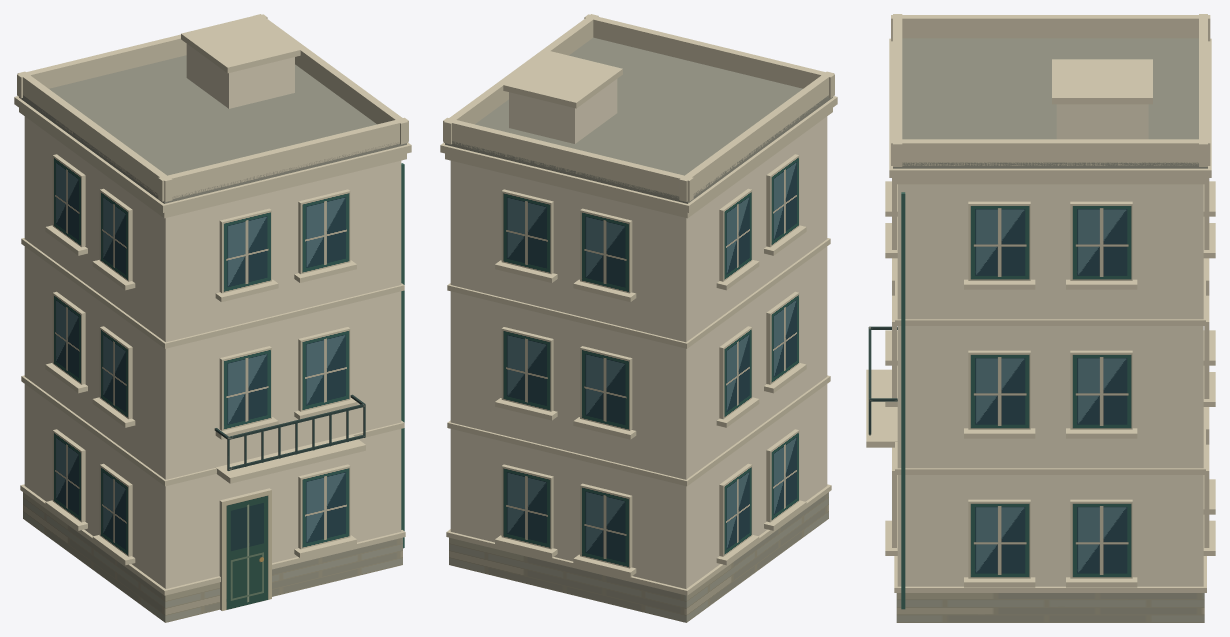
Rendered from SM_QD_C_FlatTownhouse.fbx.
3 renders of one model, left to right at view 1: azimuth 30°, elevation 25°; view 2: azimuth 150°, elevation 25°; view 3: azimuth 270°, elevation 25°, orthographic. The views are drawn at different scales.
Visible parts, largest first — view 1: SM_QD_C_FlatTownhouse; view 2: SM_QD_C_FlatTownhouse; view 3: SM_QD_C_FlatTownhouse.
Part boxes in pixels (x1,y1,x2,y2): SM_QD_C_FlatTownhouse: [14, 14, 411, 622]; SM_QD_C_FlatTownhouse: [440, 14, 837, 622]; SM_QD_C_FlatTownhouse: [866, 14, 1215, 622].
Size of what is drawn, in the model's own units: 5.63 by 6.17 by 9.91.
Materials: 1 (1 with a texture image).
